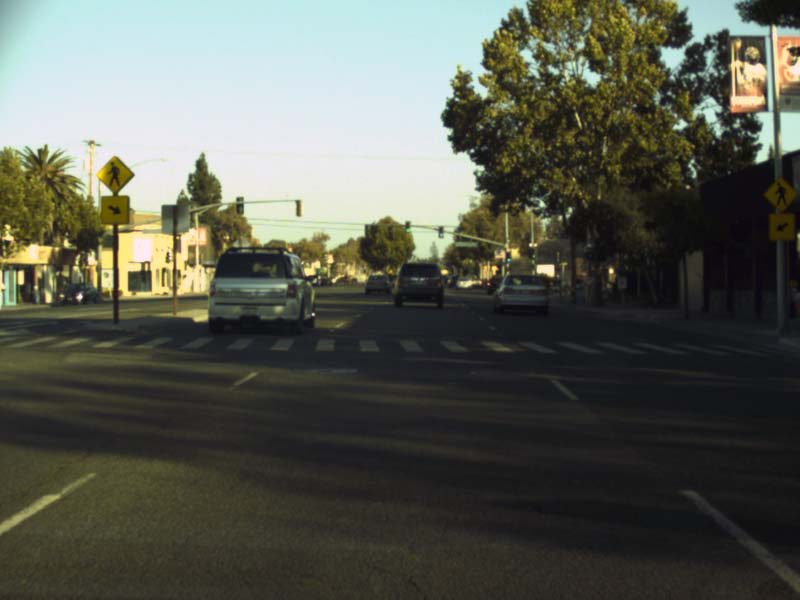Green: (528, 248, 535, 258), (438, 227, 443, 237), (405, 221, 409, 232), (506, 251, 510, 262)
